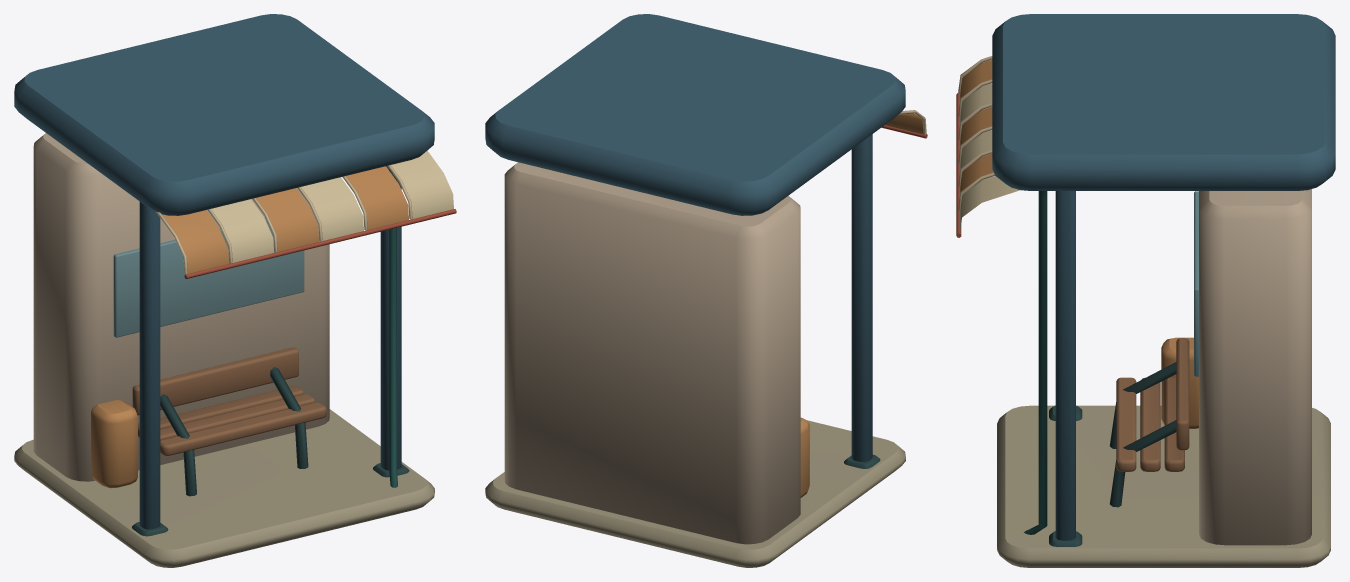
The model's file is annex_truck_park_5.glb.
The picture shows the model from 3 angles, left to right: view 1: azimuth 30°, elevation 25°; view 2: azimuth 150°, elevation 25°; view 3: azimuth 270°, elevation 25°; orthographic projection. The views are drawn at different scales.
Parts seen in each view (by area): view 1: AnnexTruckPark5; view 2: AnnexTruckPark5; view 3: AnnexTruckPark5.
Part boxes in pixels (x1,y1,x2,y2): AnnexTruckPark5: (14,14,456,567); AnnexTruckPark5: (485,14,927,567); AnnexTruckPark5: (956,14,1335,567).
Bounding box in the file's own units: 2.63 × 3.38 × 2.82.
